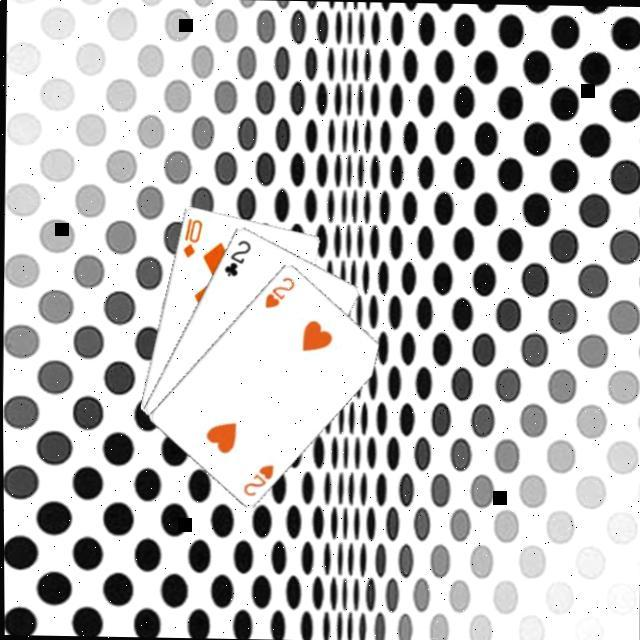10D: (177, 212, 202, 258)
2C: (218, 233, 251, 277)
2H: (258, 270, 296, 308), (237, 458, 274, 497)
